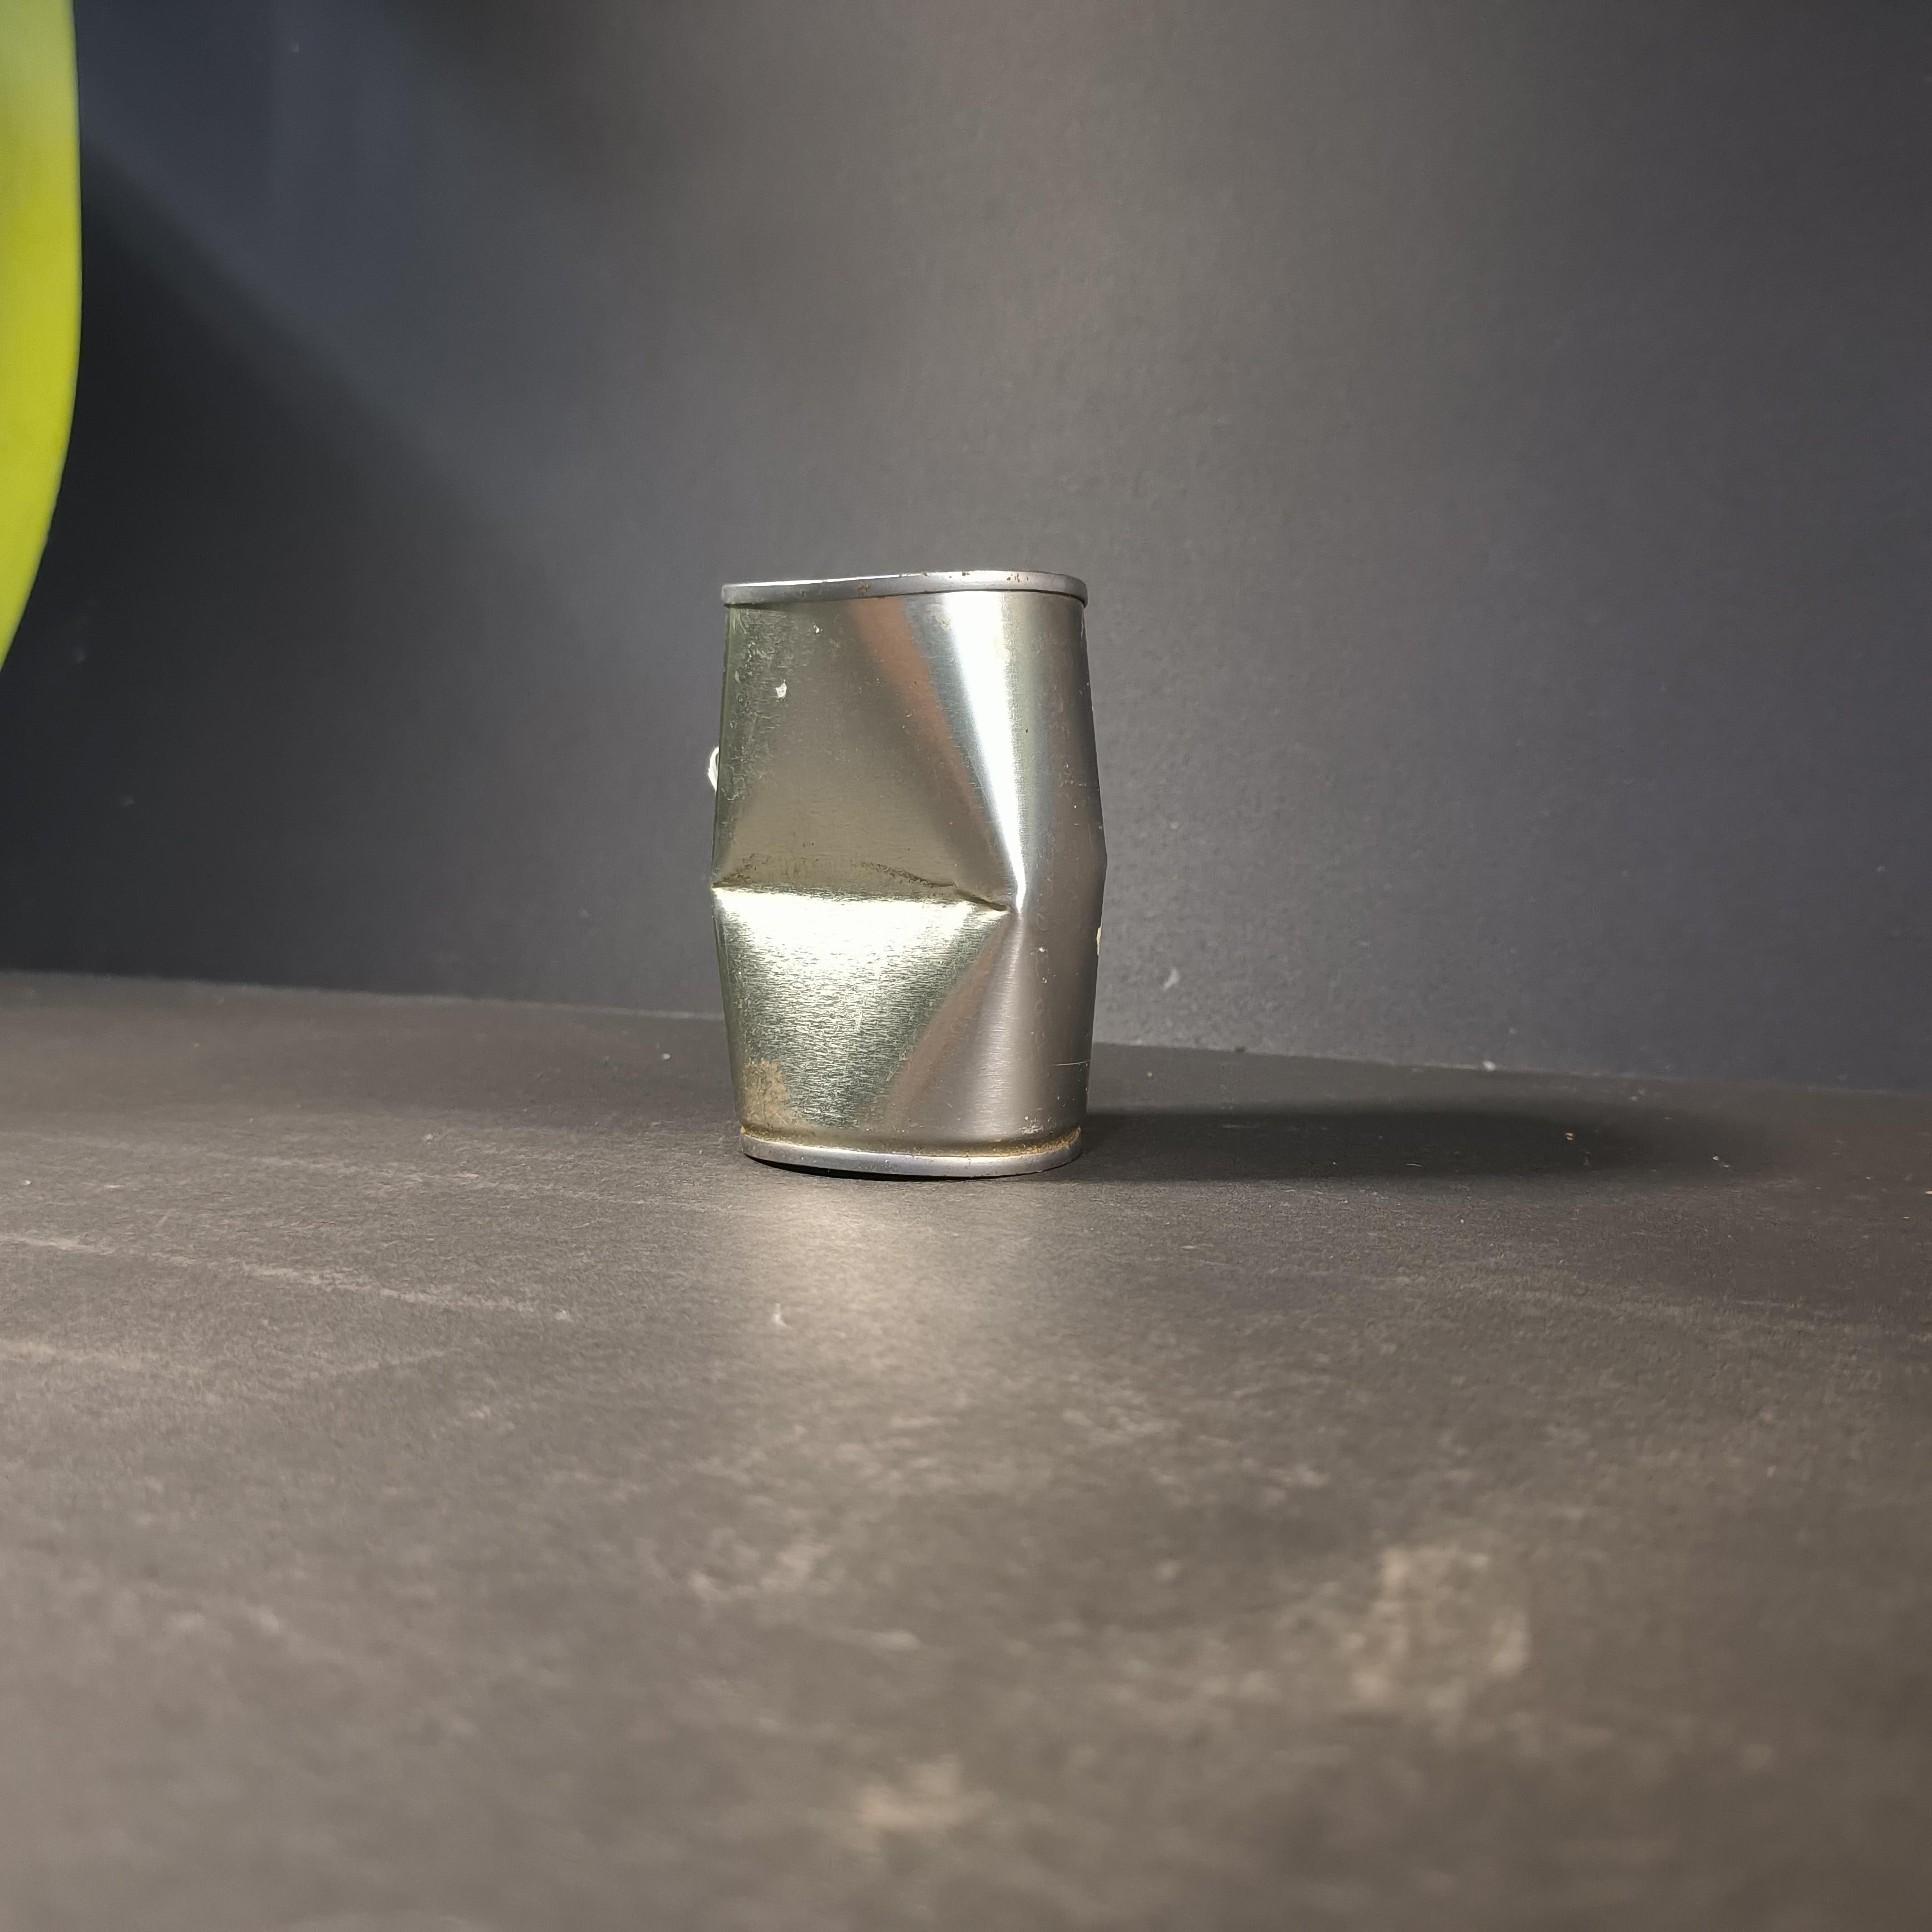Dented: (681, 543, 1138, 1187)
